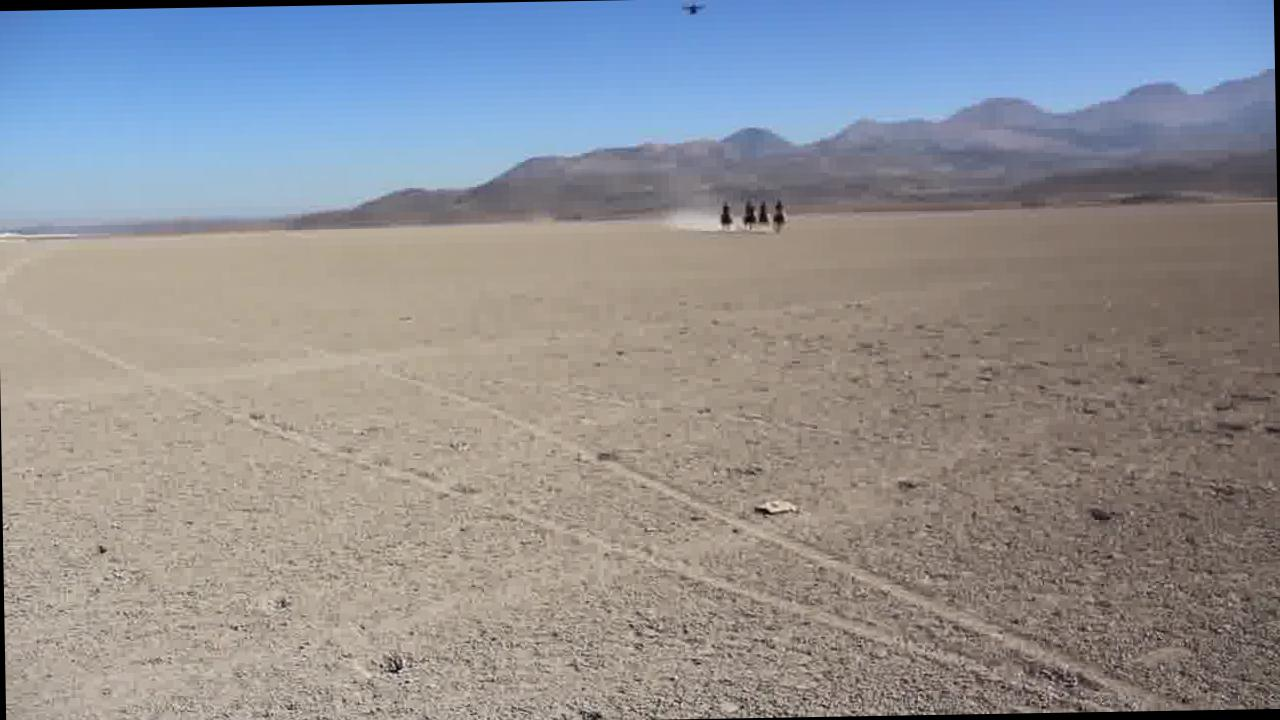drone: (677, 0, 707, 18)
